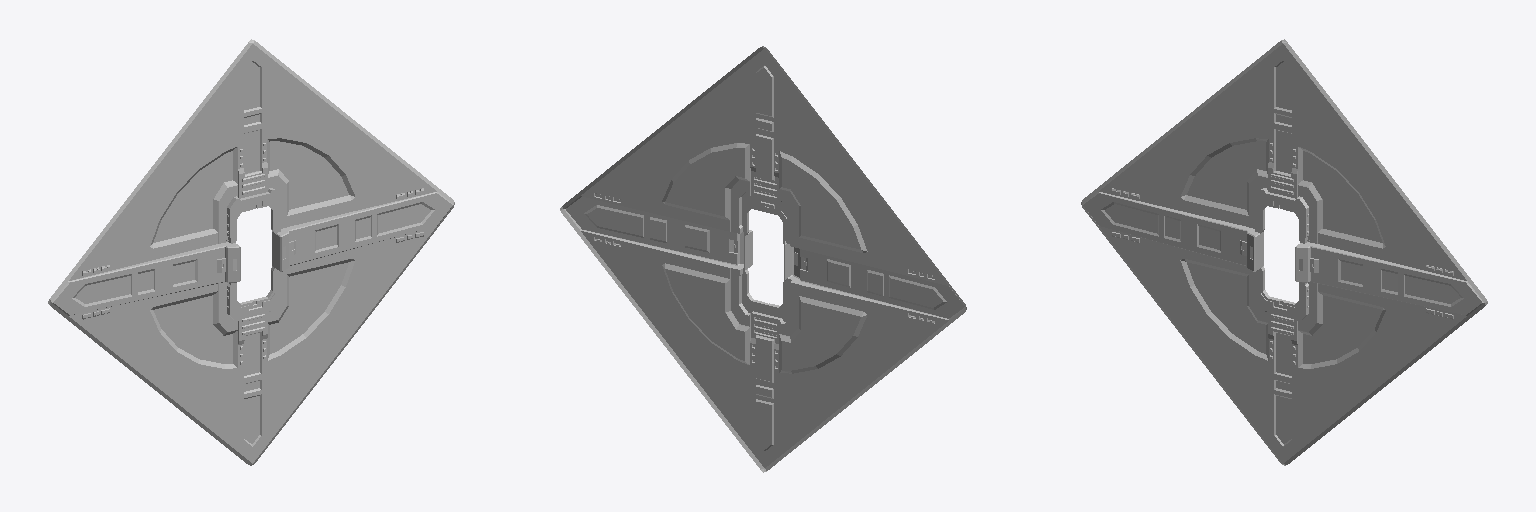
The model's file is oolite_coriolis_faceplate.obj.
The picture shows the model from 3 angles: view 1: azimuth 30°, elevation 25°; view 2: azimuth 150°, elevation 25°; view 3: azimuth 330°, elevation 25°; orthographic projection.
Parts seen in each view (by area): view 1: oolite_coriolis_faceplate.obj; view 2: oolite_coriolis_faceplate.obj; view 3: oolite_coriolis_faceplate.obj.
Boxes of the visible parts, <box> form: oolite_coriolis_faceplate.obj: <box>48,39,454,465</box>; oolite_coriolis_faceplate.obj: <box>560,46,966,472</box>; oolite_coriolis_faceplate.obj: <box>1081,39,1487,465</box>.
Size of the model in its own units: 1000 by 1000 by 41.37.